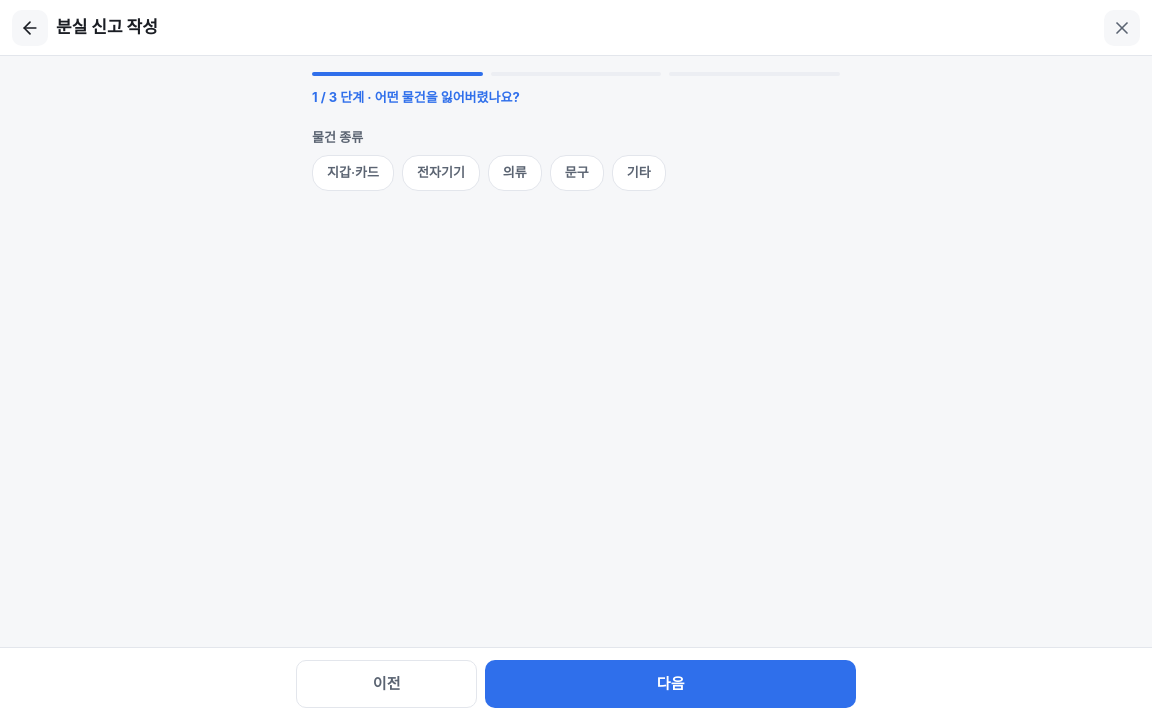
Scenario: LostReportNewPage › 1단계 — 종류를 고르지 않고 [다음]을 누르면 오류
Expected: the text "1 / 3 단계 · 어떤 물건을 잃어버렸나요?" is shown, top-left (312, 89), bottom-right (520, 105)
Click the button "다음": (671, 684) top-left (485, 660), bottom-right (856, 708)
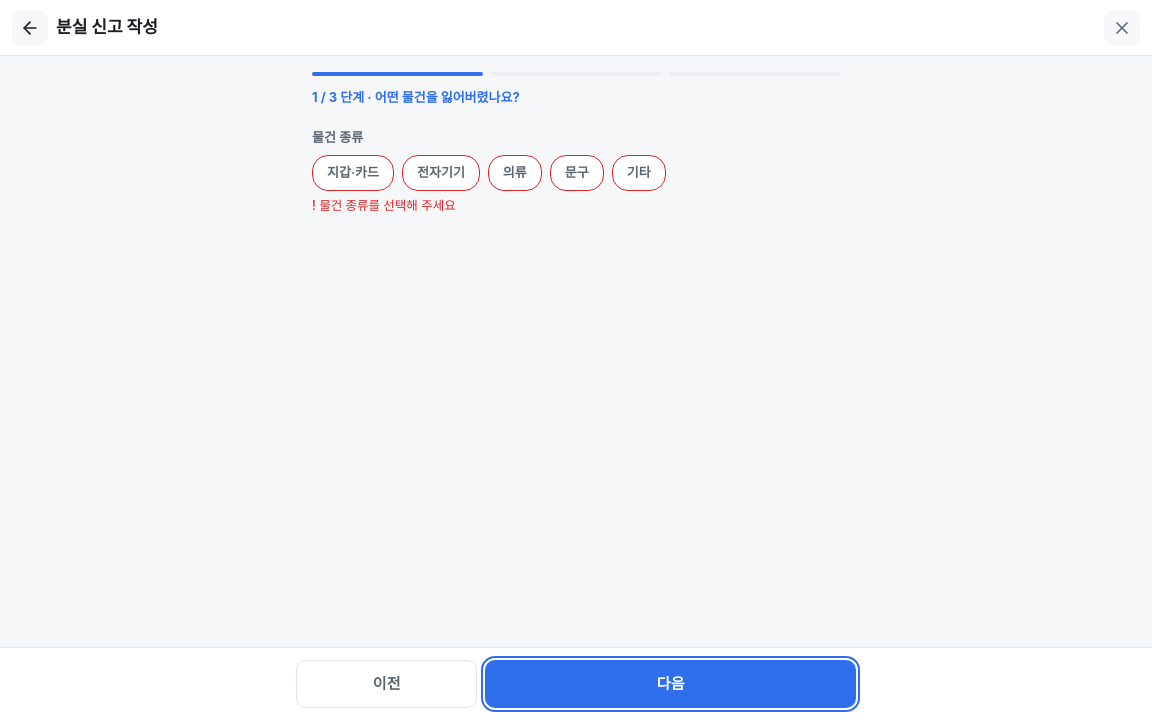
Expected: the text "1 / 3 단계 · 어떤 물건을 잃어버렸나요?" is shown, top-left (312, 89), bottom-right (520, 105)
Result: the message shows "물건 종류를 선택해 주세요" at top-left (319, 198), bottom-right (456, 213)
